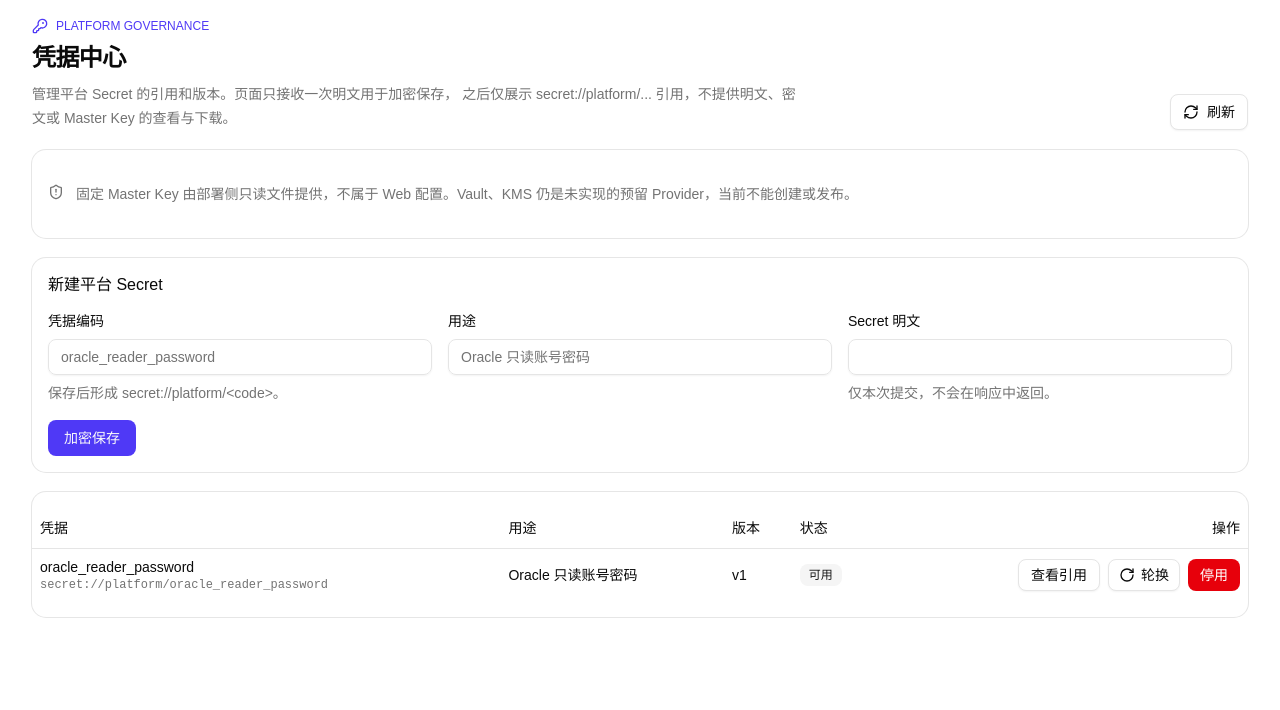
Phase 5 platform governance UI › renders actionable Secret dependency metadata
Check: the text "oracle_reader_password" is shown, box [40,559,194,575]
Click the button "查看引用" at (1059, 575), box [1018,559,1100,591]
(page scrolled)
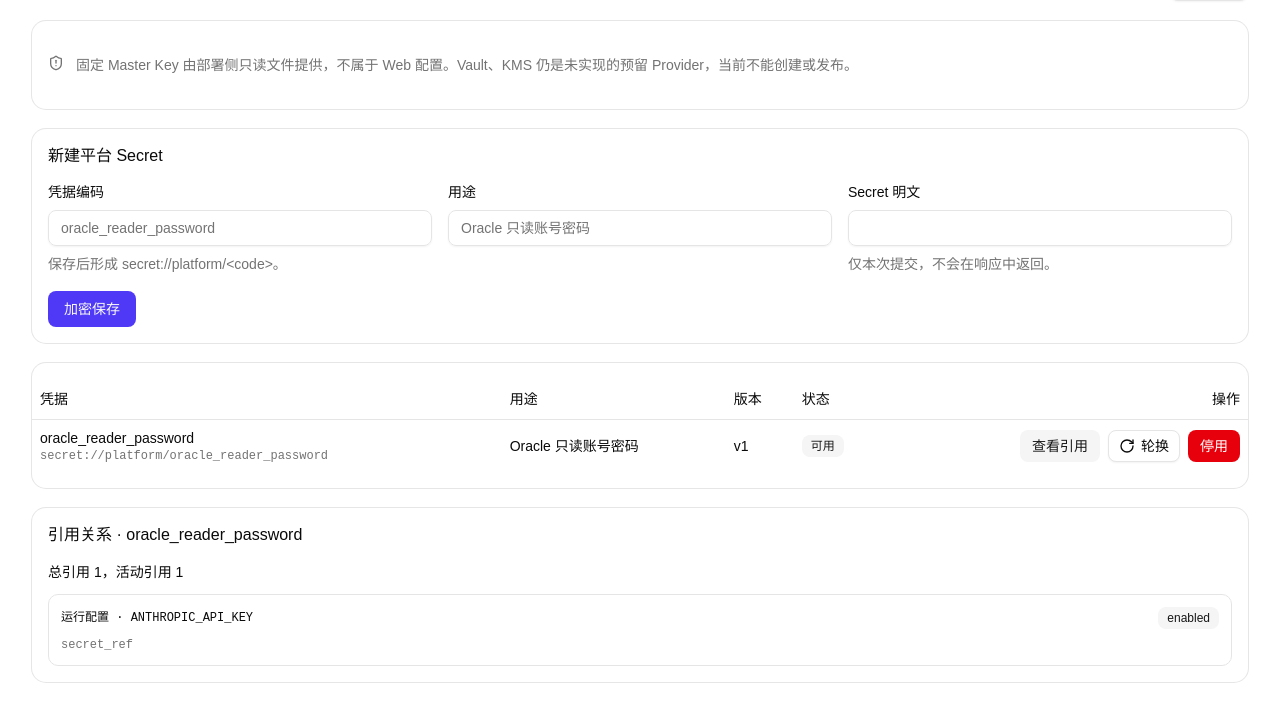
Check: the text "运行配置 · ANTHROPIC_API_KEY" is shown, box [61,610,253,626]
Check: the text "secret_ref" is shown, box [61,638,133,652]
